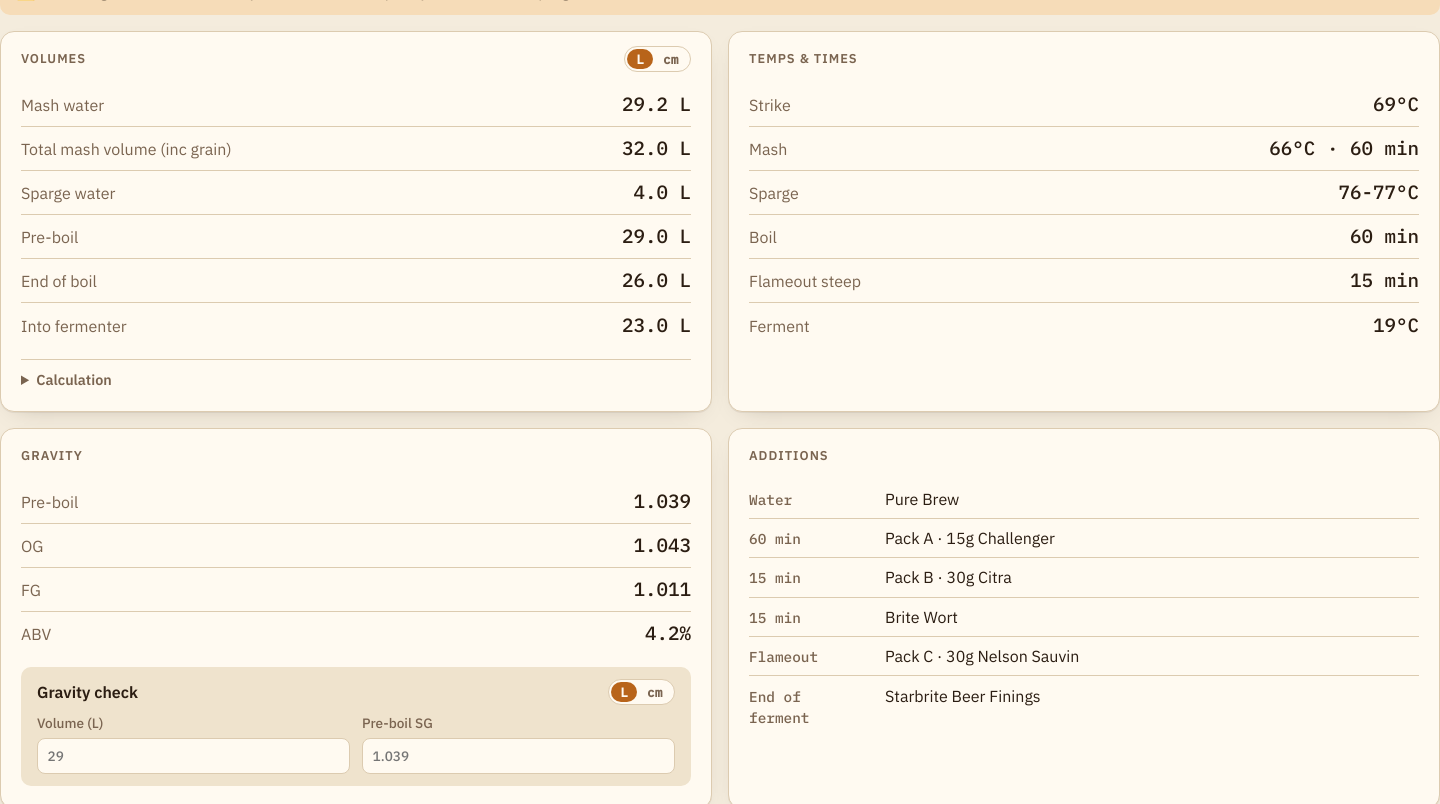
it: BrewSheet › toggles every gravity check value between litres and cm
This screenshot has width=1440, height=804.
(page scrolled)
Type "1.045" into the number field labelled "Pre-boil SG" at (518, 756), box top-left (362, 738), bottom-right (675, 774)
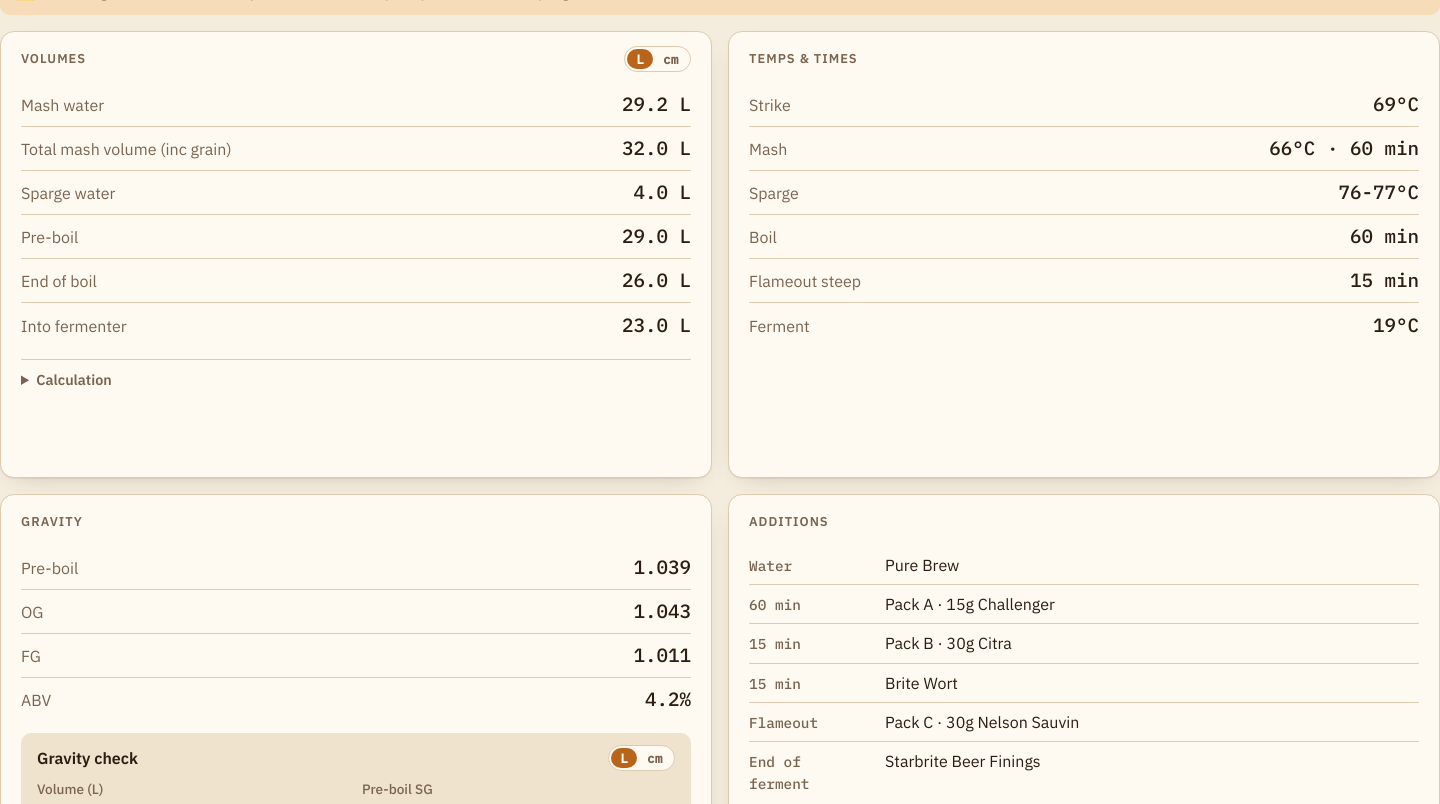
Expected: the element with class "gravity" shows "Volume (L)", top-left (37, 780), bottom-right (103, 798)
Click the button "cm" in the row of "Gravity check" at (655, 758), box top-left (638, 748), bottom-right (672, 768)
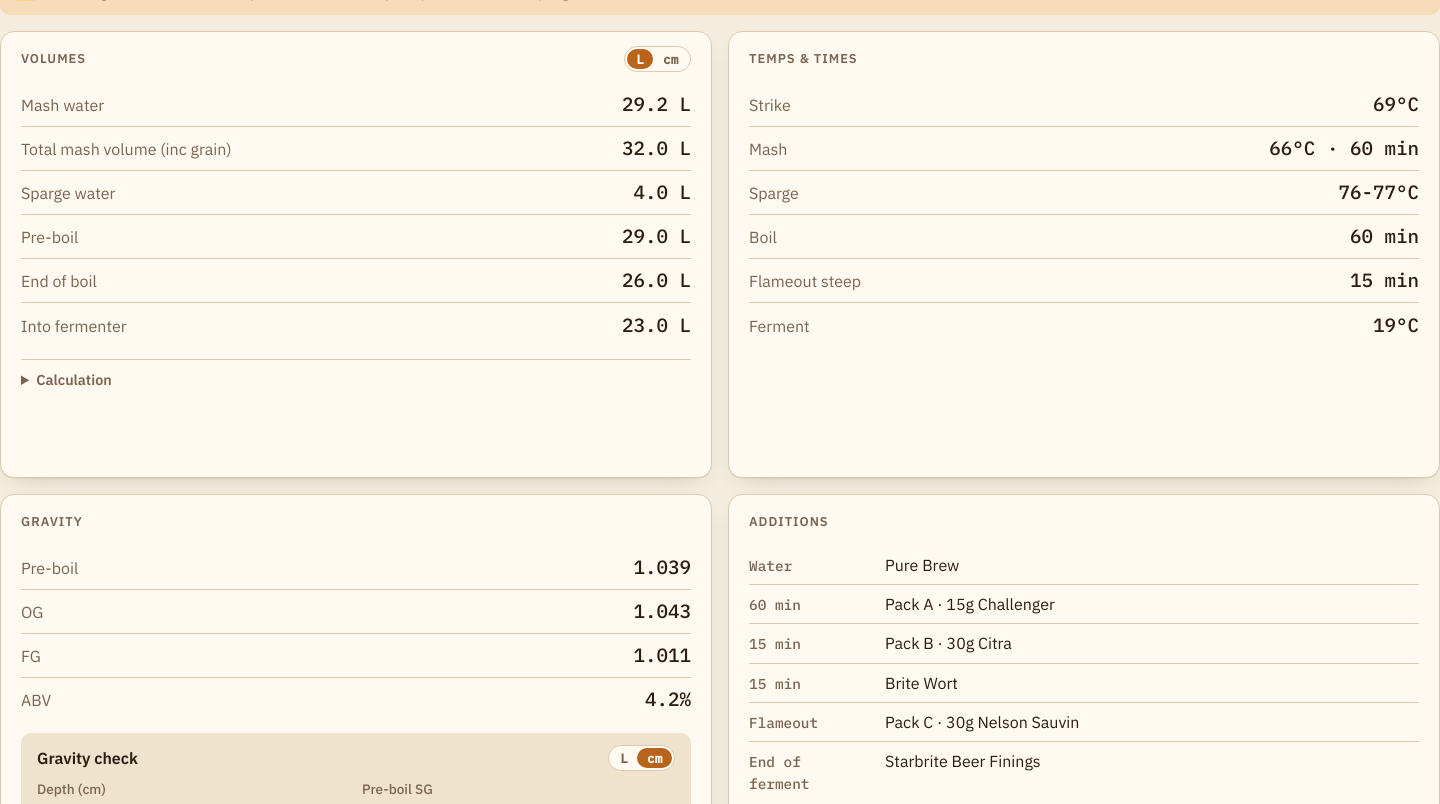
Result: the element with class "gravity" shows "Depth (cm)" at top-left (37, 780), bottom-right (106, 798)
Click the button "L" in the row of "Gravity check" at (624, 758), box top-left (611, 748), bottom-right (638, 768)
(page scrolled)
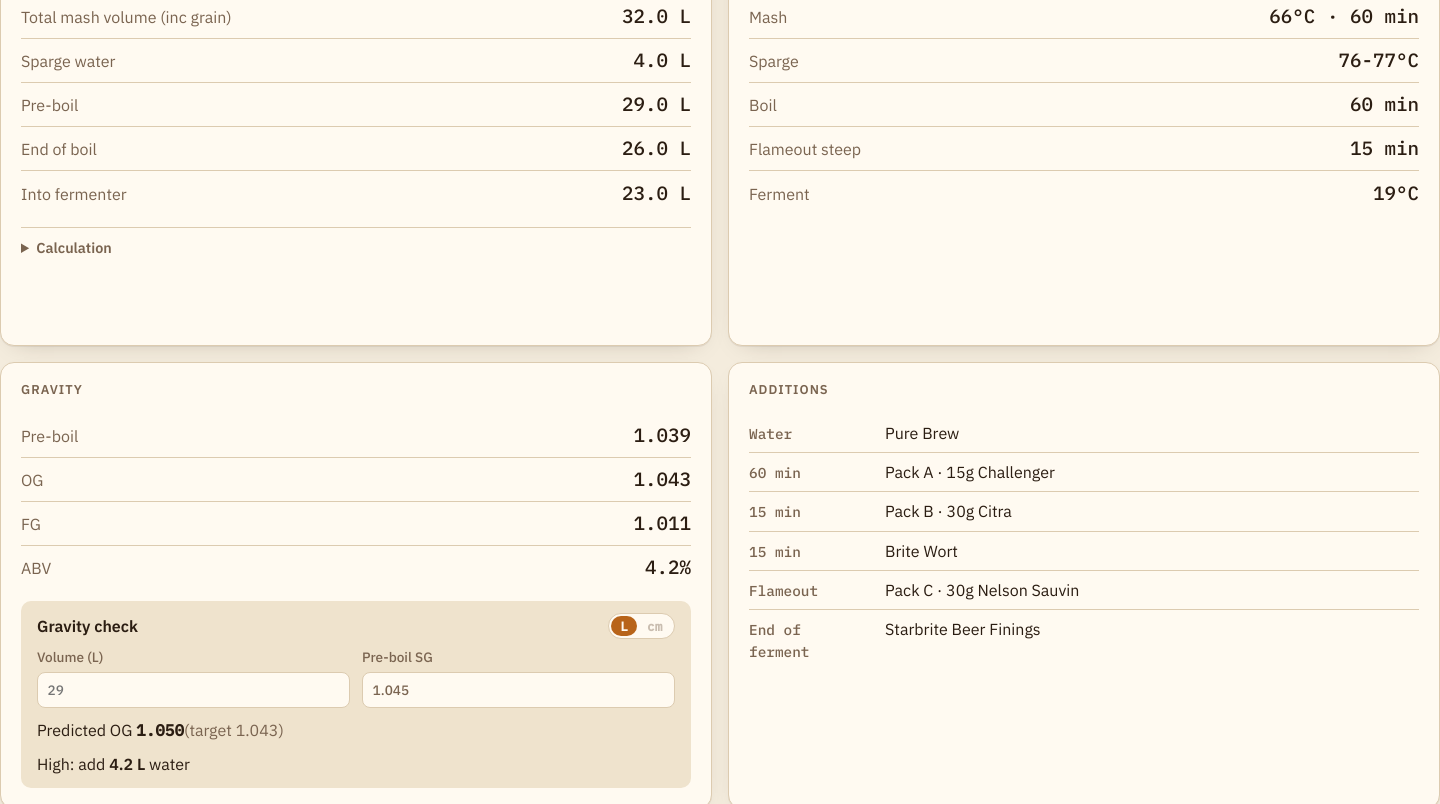
Result: the element with class "gravity" shows "Volume (L)" at top-left (37, 648), bottom-right (103, 666)
Result: the element with class "out" no longer shows "cm"
